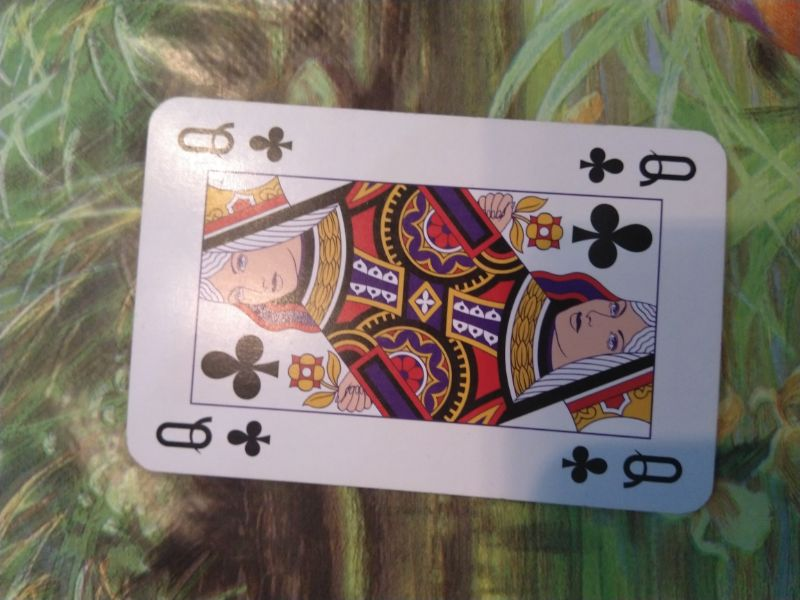Qc: (172, 111, 301, 166), (559, 440, 690, 493), (573, 140, 702, 190), (151, 411, 279, 459)
